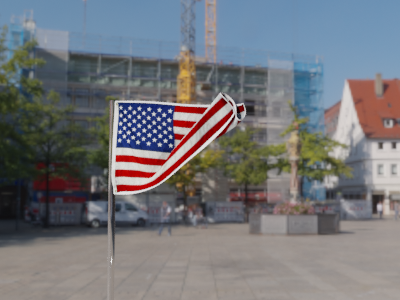America flag: (114, 96, 249, 196)
